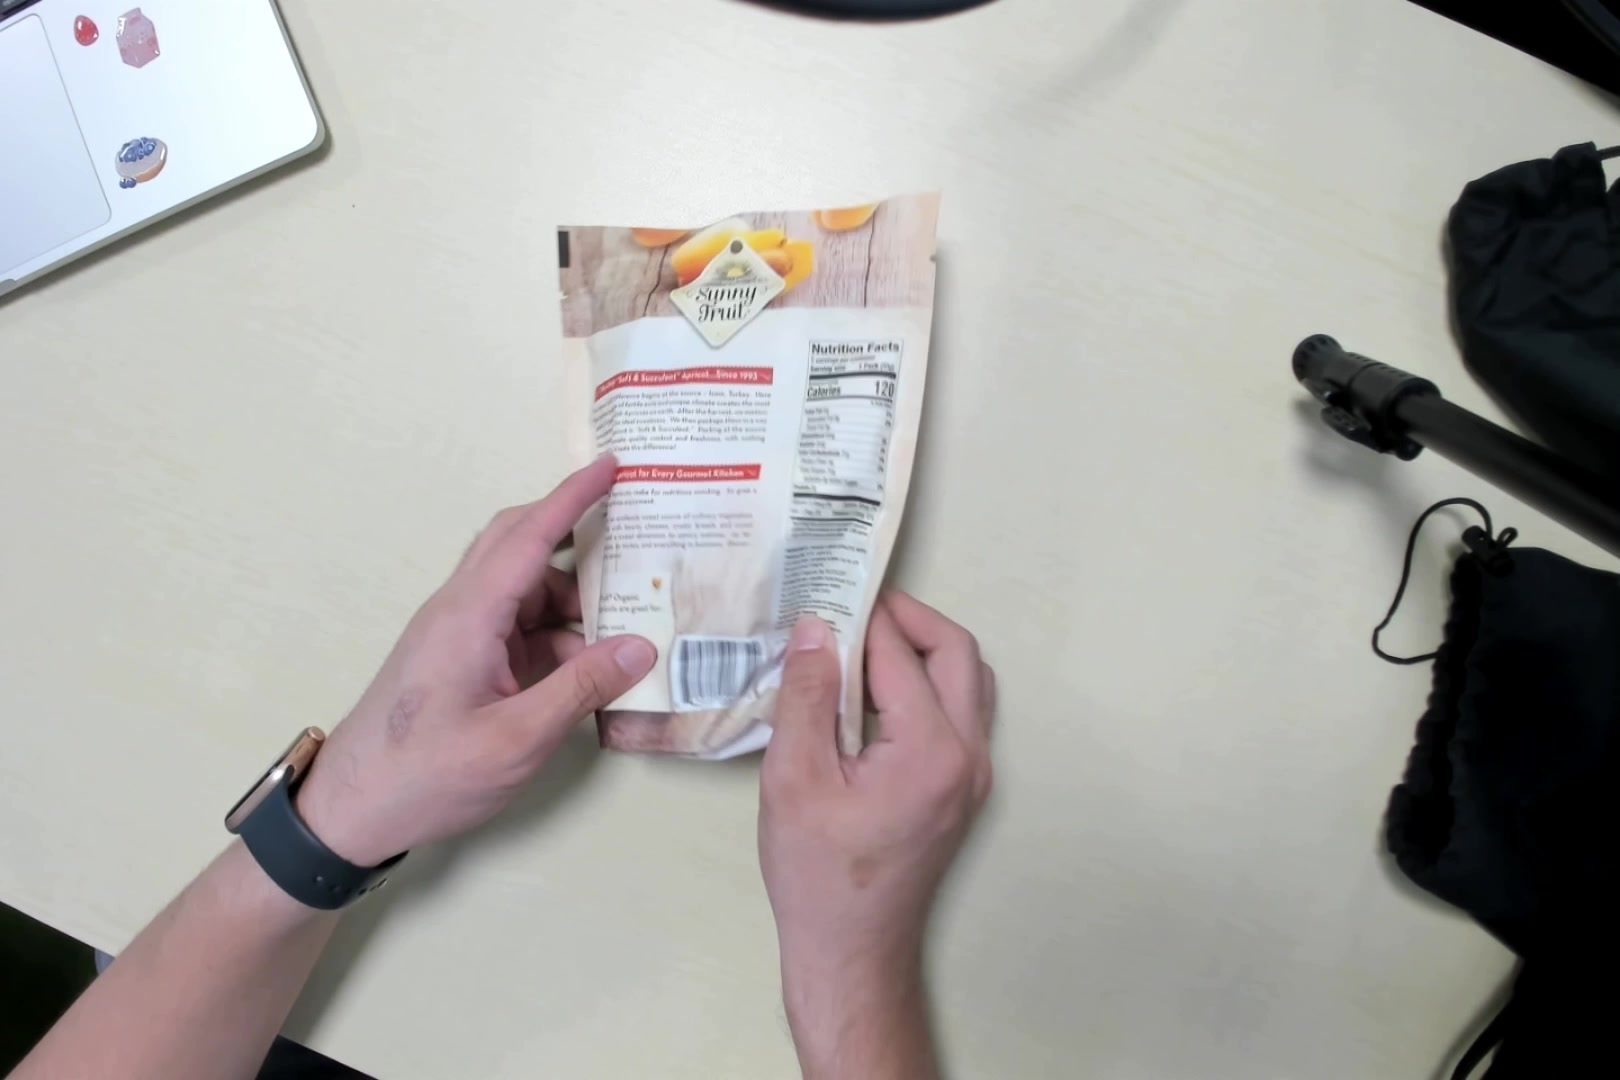DriedFood_0-99g_Halal_NonHealthy: (552, 209, 944, 771)
